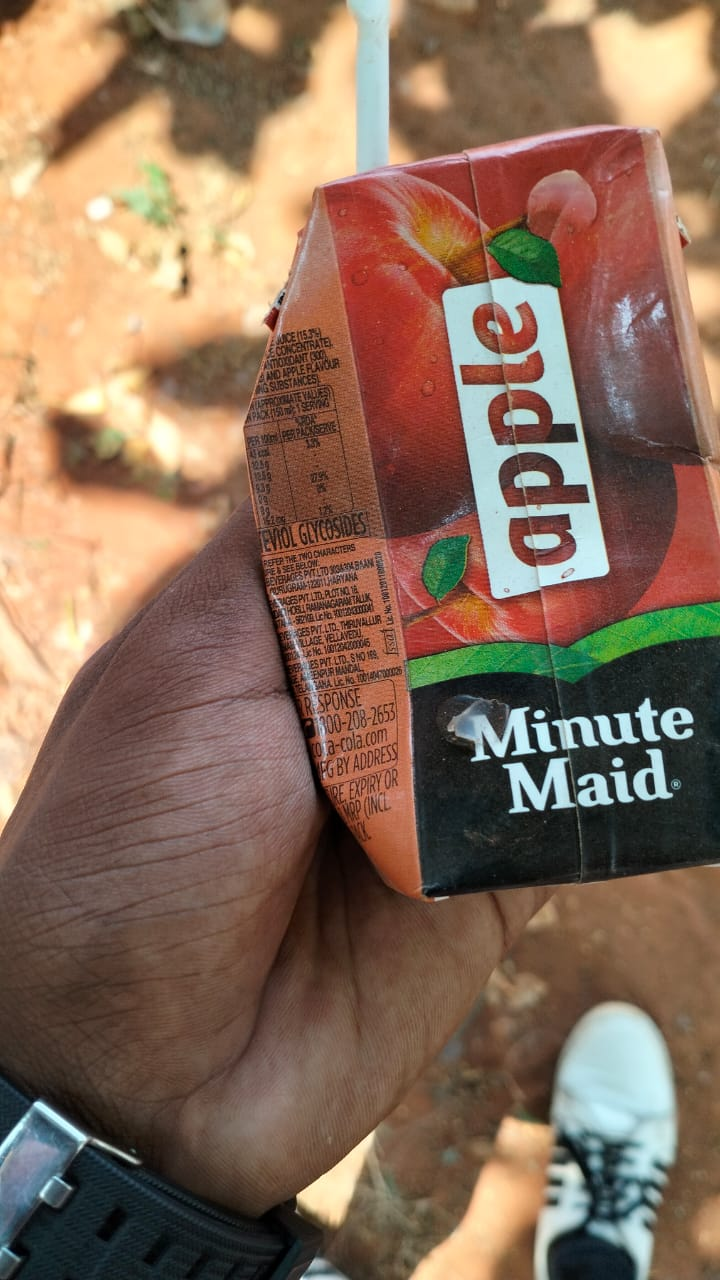pbag: (250, 163, 720, 886)
